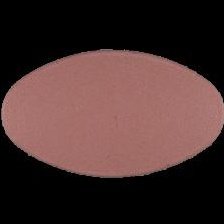70786-0005: (0, 0, 224, 224)
